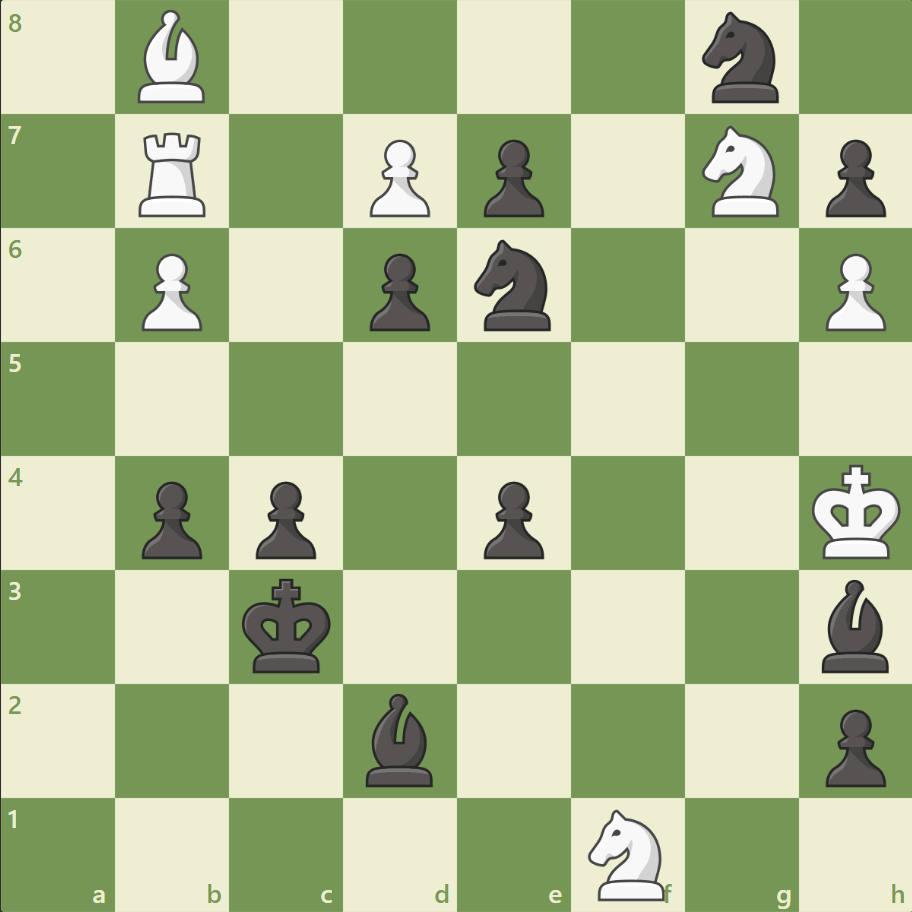B: (131, 6, 215, 109)
K: (806, 458, 906, 566)
N: (692, 121, 789, 223), (579, 802, 676, 904)
P: (133, 246, 208, 337), (361, 132, 435, 223), (815, 246, 889, 337)
R: (133, 125, 215, 222)
b: (358, 687, 442, 790), (812, 574, 896, 676)
k: (238, 571, 338, 679)
n: (692, 7, 789, 110), (465, 234, 562, 337)
p: (474, 132, 549, 223), (133, 473, 208, 564), (247, 473, 322, 564), (474, 473, 549, 564), (815, 132, 889, 223), (361, 246, 435, 337), (815, 700, 889, 791)
